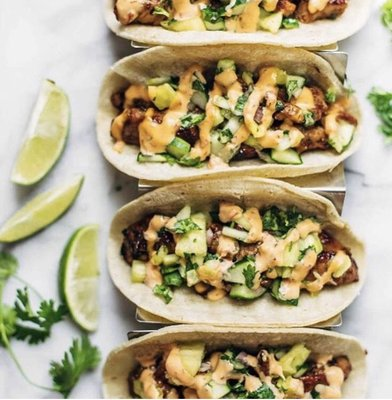curry: (222, 256, 266, 300), (366, 83, 391, 138), (262, 206, 302, 237), (152, 284, 174, 304)
steak: (0, 173, 86, 245)
sushi: (105, 177, 368, 326), (94, 44, 361, 186)
taco: (10, 76, 71, 187), (59, 223, 102, 333)
